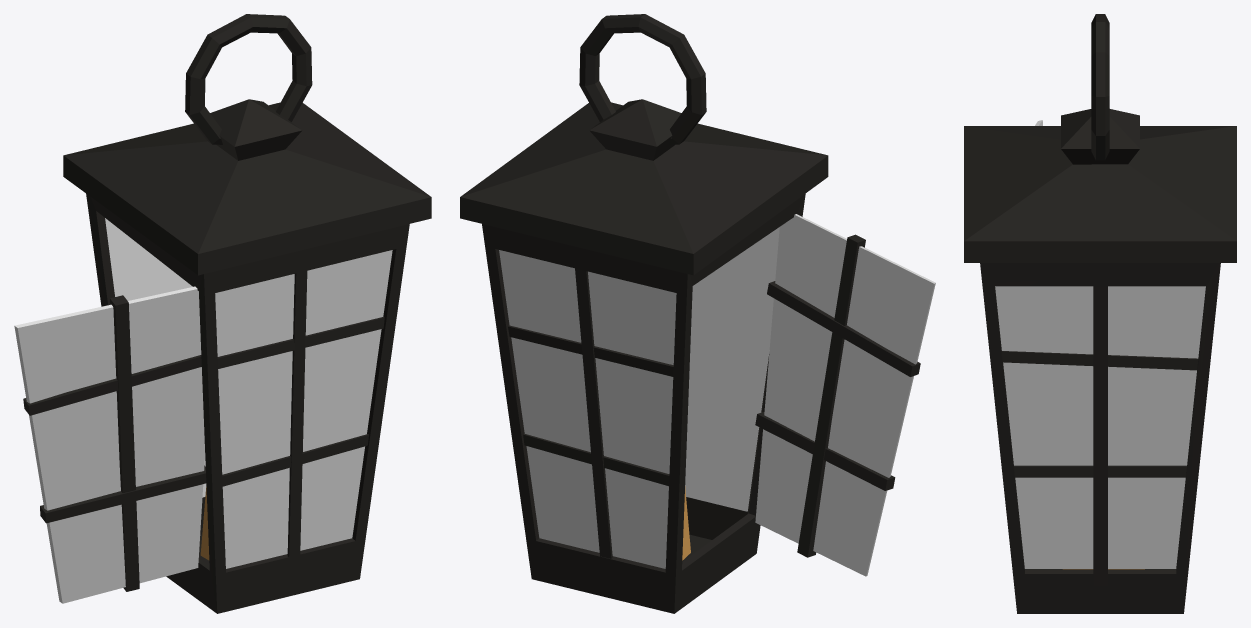
File: farol-test-06.fbx
3 views of the same model, side by side, from view 1: azimuth 30°, elevation 25°; view 2: azimuth 150°, elevation 25°; view 3: azimuth 270°, elevation 25° (orthographic).
Visible parts, largest first — view 1: Farol, Farol_Window.001, Farol.001, Farol.002, Farol.003; view 2: Farol, Farol.001, Farol_Window.001, Farol.002, Farol.003; view 3: Farol, Farol.001, Farol.002, Farol.003.
Boxes of the visible parts, x1=… form: Farol: x1=63, y1=99, x2=431, y2=613; Farol_Window.001: x1=14, y1=286, x2=206, y2=603; Farol.001: x1=105, y1=218, x2=392, y2=568; Farol.002: x1=217, y1=271, x2=384, y2=558; Farol.003: x1=185, y1=14, x2=312, y2=144; Farol: x1=460, y1=99, x2=828, y2=613; Farol.001: x1=499, y1=227, x2=779, y2=568; Farol_Window.001: x1=755, y1=214, x2=935, y2=576; Farol.002: x1=508, y1=268, x2=673, y2=558; Farol.003: x1=579, y1=14, x2=706, y2=144; Farol: x1=964, y1=109, x2=1236, y2=613; Farol.001: x1=995, y1=286, x2=1205, y2=568; Farol.002: x1=1002, y1=286, x2=1198, y2=586; Farol.003: x1=1091, y1=14, x2=1109, y2=160.
Size of the model in its own units: 14.39 by 20 by 8.88.
